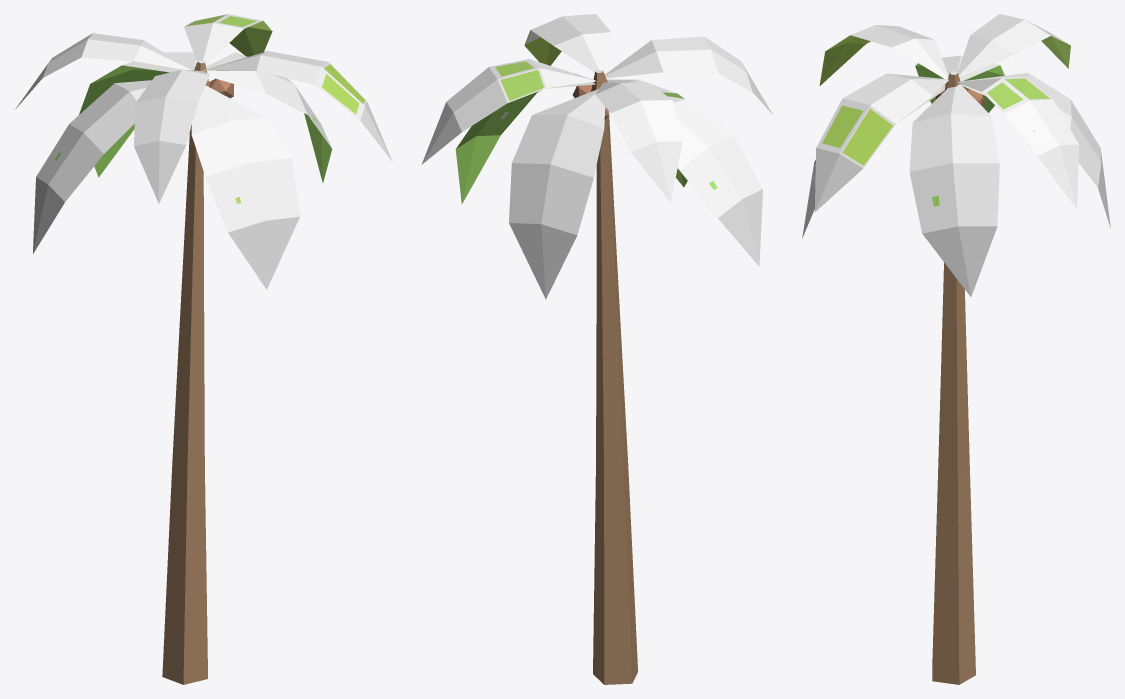
Rendered from Palm_Tree_Coconut_m_Snow_BT_01.fbx.
3 renders of one model, left to right at view 1: azimuth 30°, elevation 25°; view 2: azimuth 150°, elevation 25°; view 3: azimuth 270°, elevation 25°, orthographic.
Visible parts, largest first — view 1: Palm_Tree_Coconut_m_Snow_BT_01; view 2: Palm_Tree_Coconut_m_Snow_BT_01; view 3: Palm_Tree_Coconut_m_Snow_BT_01.
Part boxes in pixels (x1,y1,x2,y2): Palm_Tree_Coconut_m_Snow_BT_01: (15, 14, 392, 684); Palm_Tree_Coconut_m_Snow_BT_01: (421, 14, 772, 684); Palm_Tree_Coconut_m_Snow_BT_01: (802, 14, 1110, 684).
Size of the model in its own units: 298 by 601 by 269.
